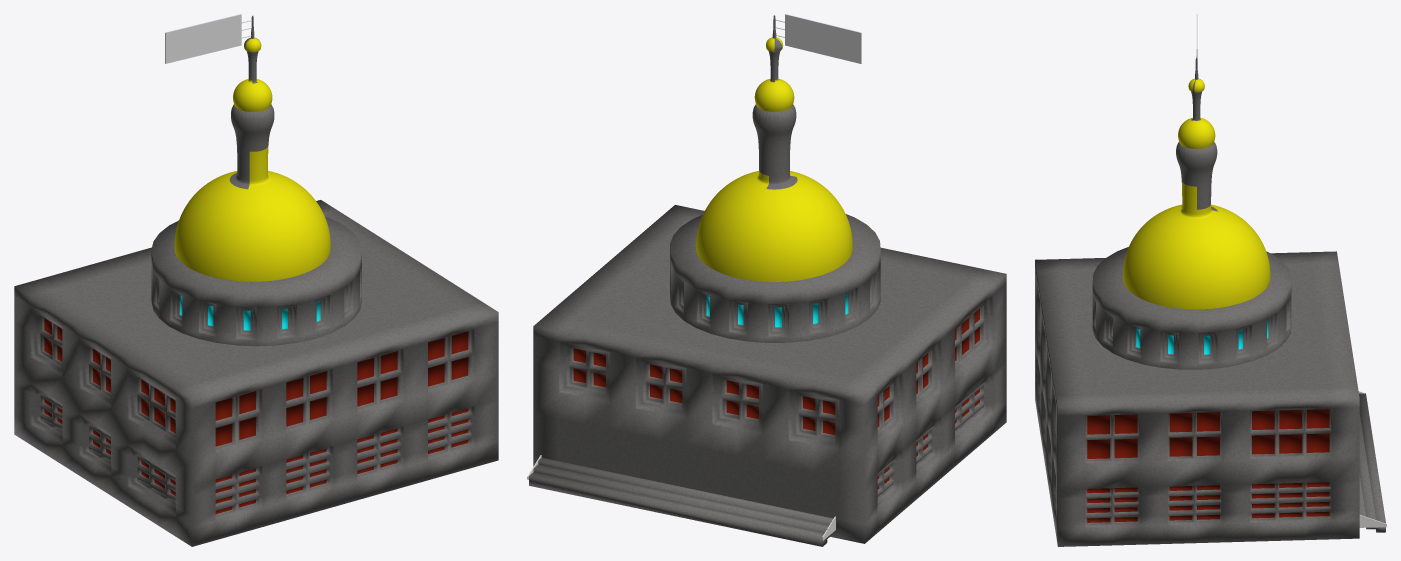
File: SaintMary'sIslandTownHall.fbx
The picture shows the model from 3 angles, left to right: view 1: azimuth 30°, elevation 25°; view 2: azimuth 150°, elevation 25°; view 3: azimuth 270°, elevation 25°; orthographic projection. The views are drawn at different scales.
Parts seen in each view (by area): view 1: StMary'sTownHall.001, Flag; view 2: StMary'sTownHall.001, Flag; view 3: StMary'sTownHall.001.
Boxes of the visible parts, bbox=[...] form: StMary'sTownHall.001: bbox=[14, 15, 498, 546]; Flag: bbox=[165, 14, 241, 63]; StMary'sTownHall.001: bbox=[529, 15, 1006, 546]; Flag: bbox=[785, 14, 861, 63]; StMary'sTownHall.001: bbox=[1035, 58, 1385, 546].
Size of the model in its own units: 7382 by 9156 by 7065.
